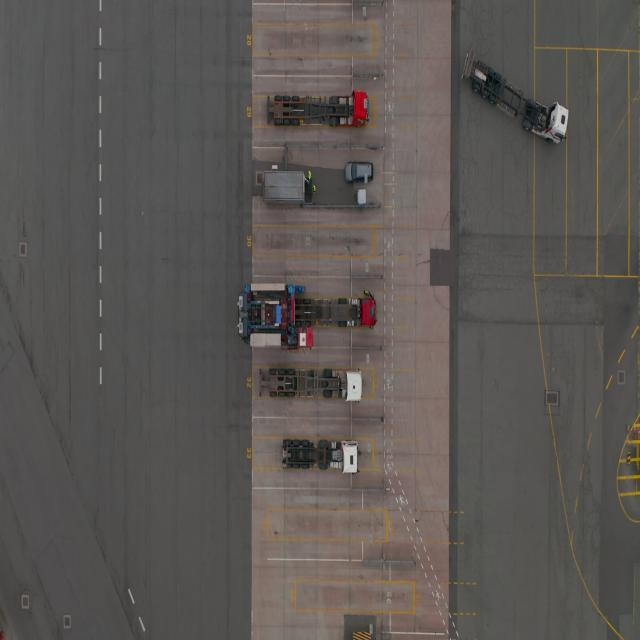vehicle: (462, 52, 570, 144), (237, 284, 376, 348), (266, 87, 368, 128), (257, 367, 362, 402), (280, 438, 357, 473), (344, 161, 374, 183), (308, 170, 312, 183), (312, 184, 316, 194), (364, 289, 369, 297)
